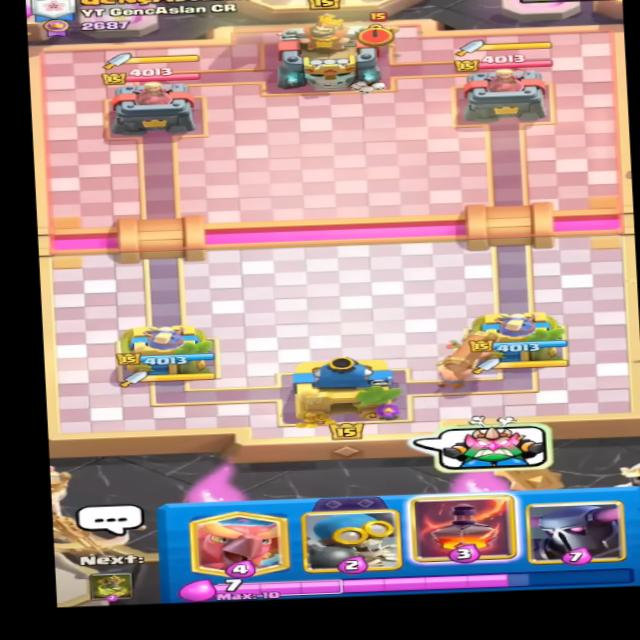wizard: (358, 10, 415, 46)
